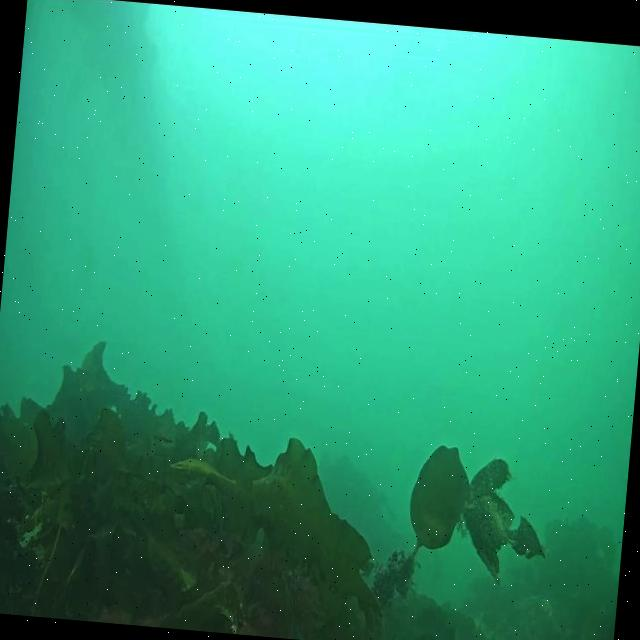fish: (170, 454, 238, 492), (152, 432, 172, 447)
